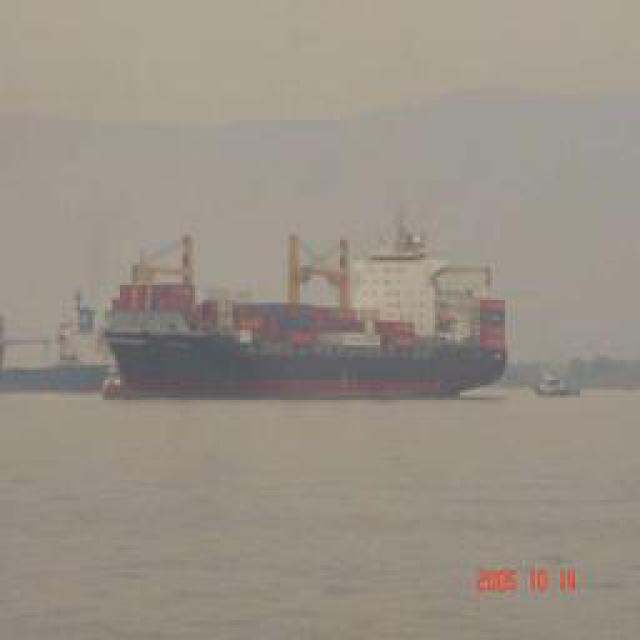Ship: (106, 289, 506, 399)
